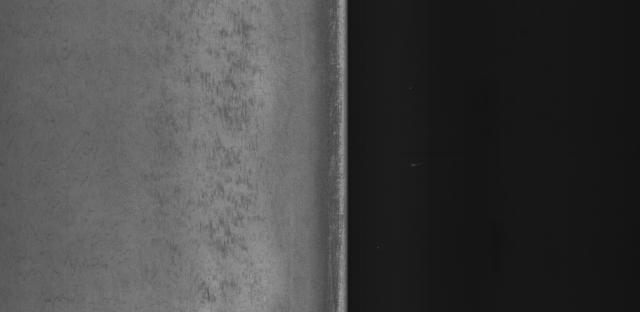silk_spot: (161, 15, 277, 312)
